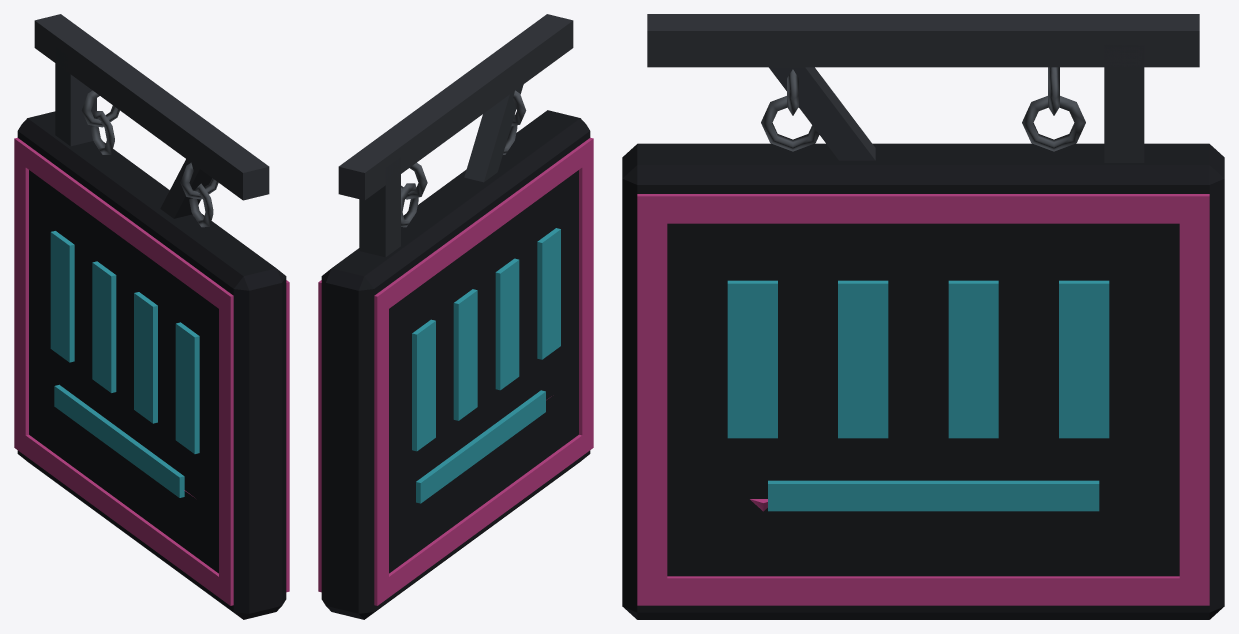
File: neon_storefront_01.glb
The picture shows the model from 3 angles, left to right: view 1: azimuth 30°, elevation 25°; view 2: azimuth 150°, elevation 25°; view 3: azimuth 270°, elevation 25°; orthographic projection. The views are drawn at different scales.
Visible parts, largest first — view 1: neon_storefront_01; view 2: neon_storefront_01; view 3: neon_storefront_01.
Part boxes in pixels (x1,y1,x2,y2): neon_storefront_01: [14, 14, 289, 619]; neon_storefront_01: [318, 14, 593, 619]; neon_storefront_01: [622, 14, 1224, 619].
Bounding box in the file's own units: 0.195 × 1.29 × 1.2.
